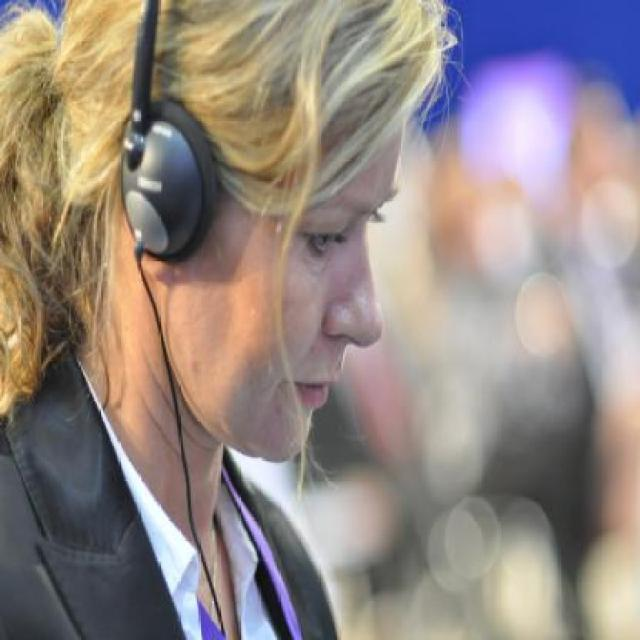earphone: (116, 0, 230, 271)
